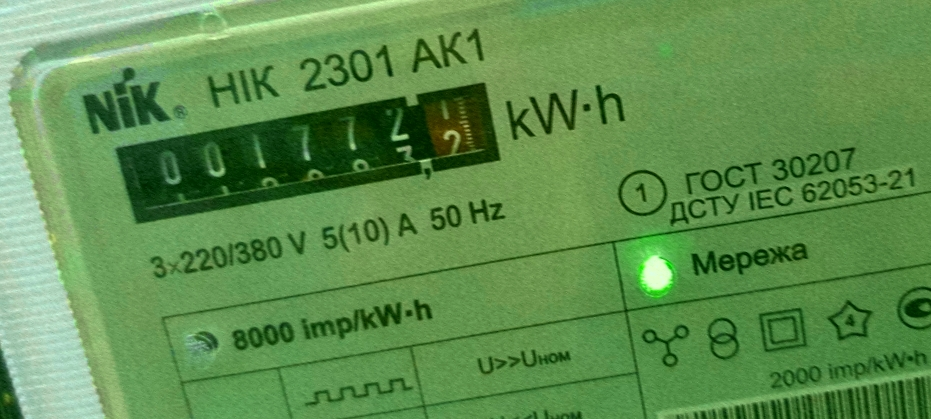0: (153, 145, 186, 189), (200, 138, 228, 180)
1: (248, 131, 270, 171), (437, 98, 453, 125)
2: (383, 106, 412, 145), (438, 126, 465, 158)
3: (394, 143, 419, 167)
7: (290, 122, 318, 165), (336, 114, 362, 155)
screen: (102, 69, 521, 238)
